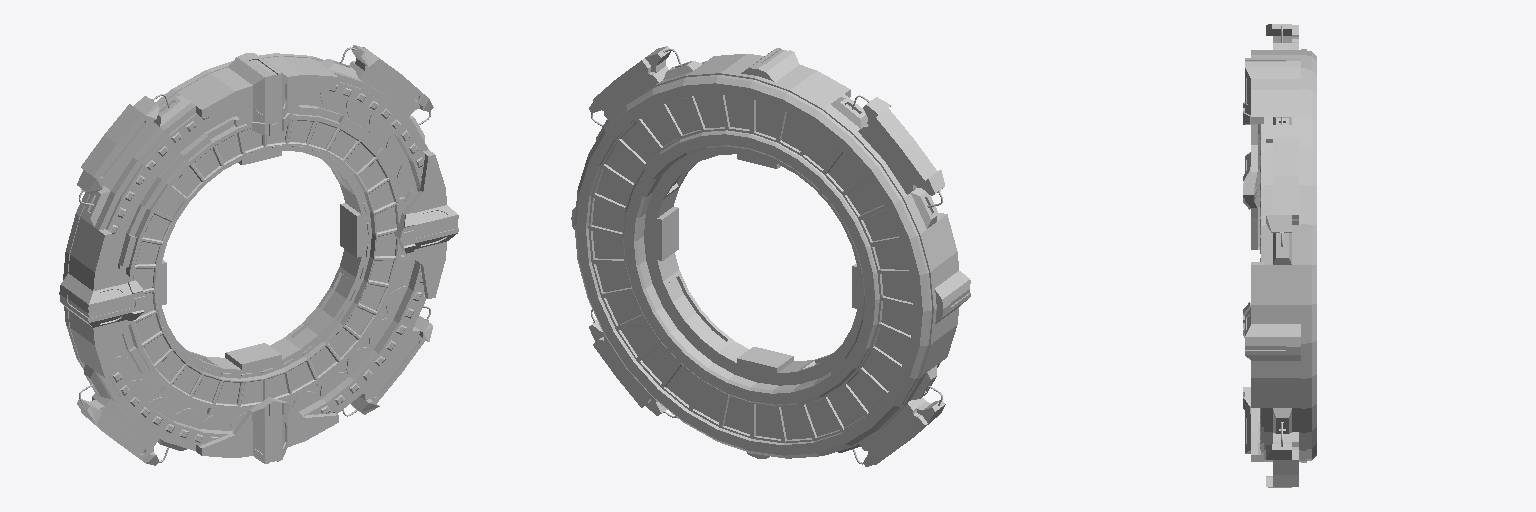
The model's file is portal_1.obj.
The picture shows the model from 3 angles: view 1: azimuth 30°, elevation 25°; view 2: azimuth 150°, elevation 25°; view 3: azimuth 270°, elevation 25°; orthographic projection.
Parts seen in each view (by area): view 1: Circle; view 2: Circle; view 3: Circle.
Part boxes in pixels (x1,y1,x2,y2): Circle: (59, 45, 458, 465); Circle: (571, 46, 970, 466); Circle: (1243, 24, 1316, 487).
Bounding box in the file's own units: 5.68 × 5.68 × 0.9743.